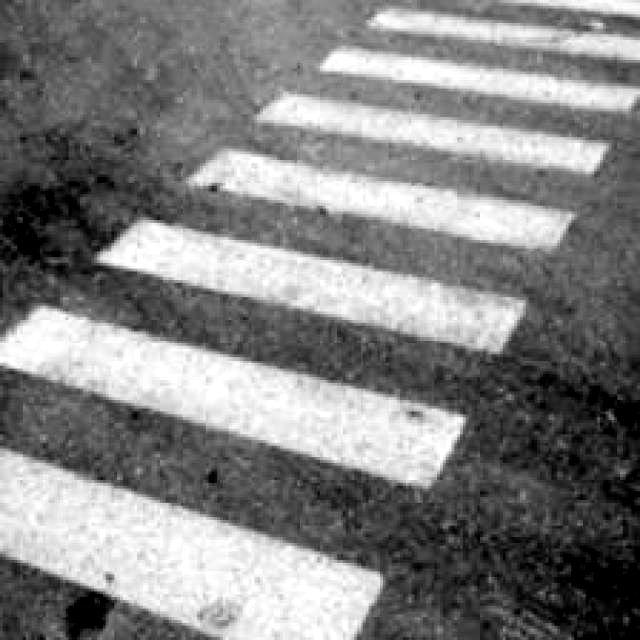crosswalk: (1, 2, 632, 639)
